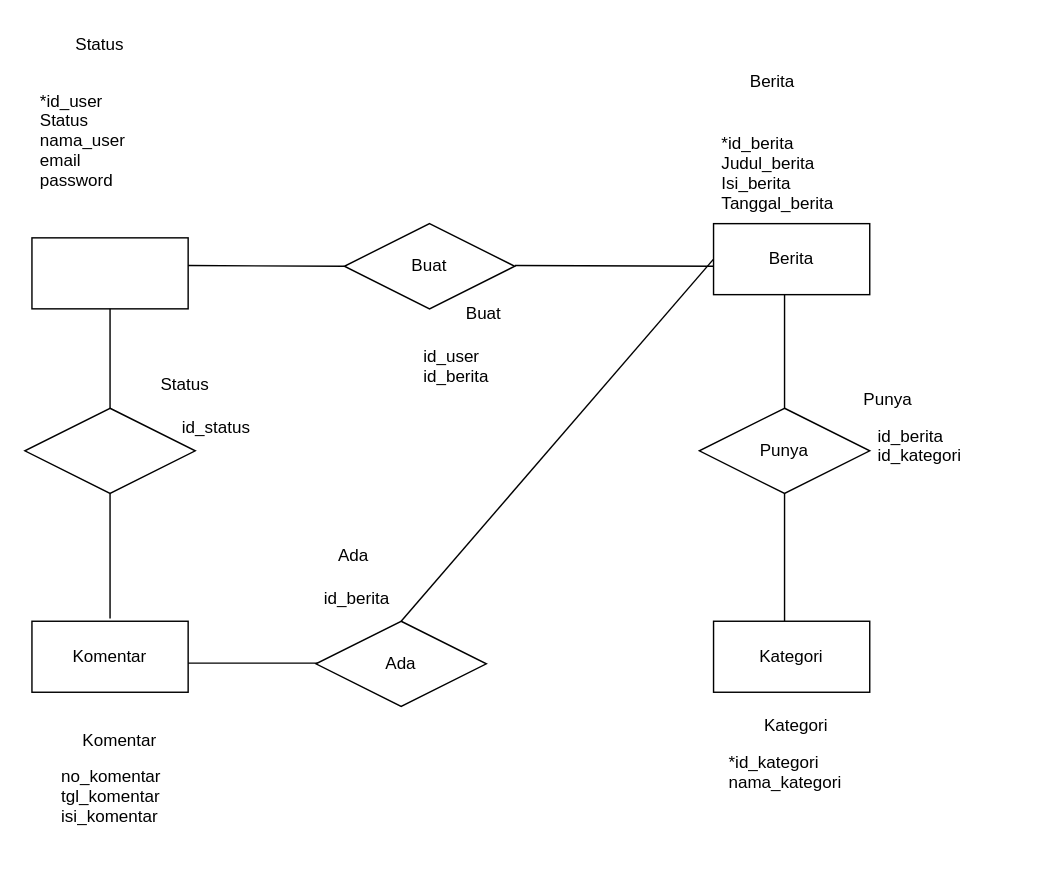
The diagram is 1051 pixels wide and 893 high, and some of its shapes have lost their labels. The shapes that lost their labels are listed below. From the top down, each one's centre as x and y in pixels, then its label:
the point at 109,272: User
the point at 109,450: Relationship
